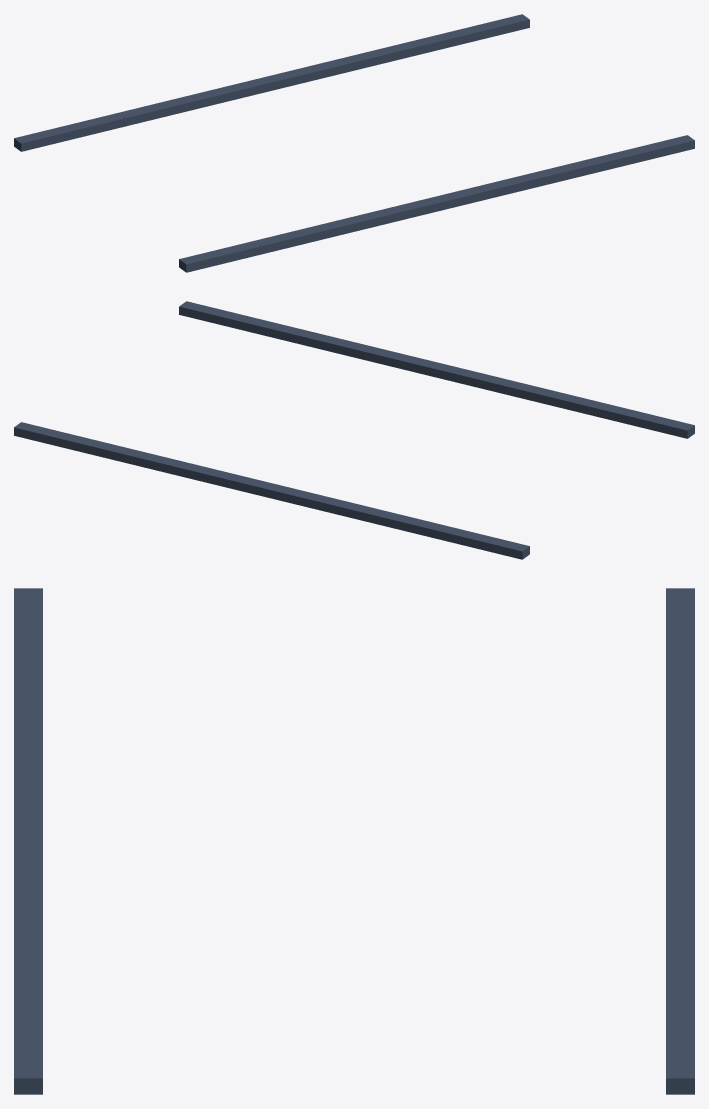
Rendered from ms1_mounts.obj.
3 views of the same model, one above another, from view 1: azimuth 30°, elevation 25°; view 2: azimuth 150°, elevation 25°; view 3: azimuth 270°, elevation 25° (orthographic). The views are drawn at different scales.
Parts seen in each view (by area): view 1: ms1_mounts; view 2: ms1_mounts; view 3: ms1_mounts.
Boxes of the visible parts, <box> form: ms1_mounts: <box>14,14,694,272</box>; ms1_mounts: <box>14,301,694,559</box>; ms1_mounts: <box>14,588,694,1094</box>.
Size of the model in its own units: 6.4 by 0.1 by 3.76.
